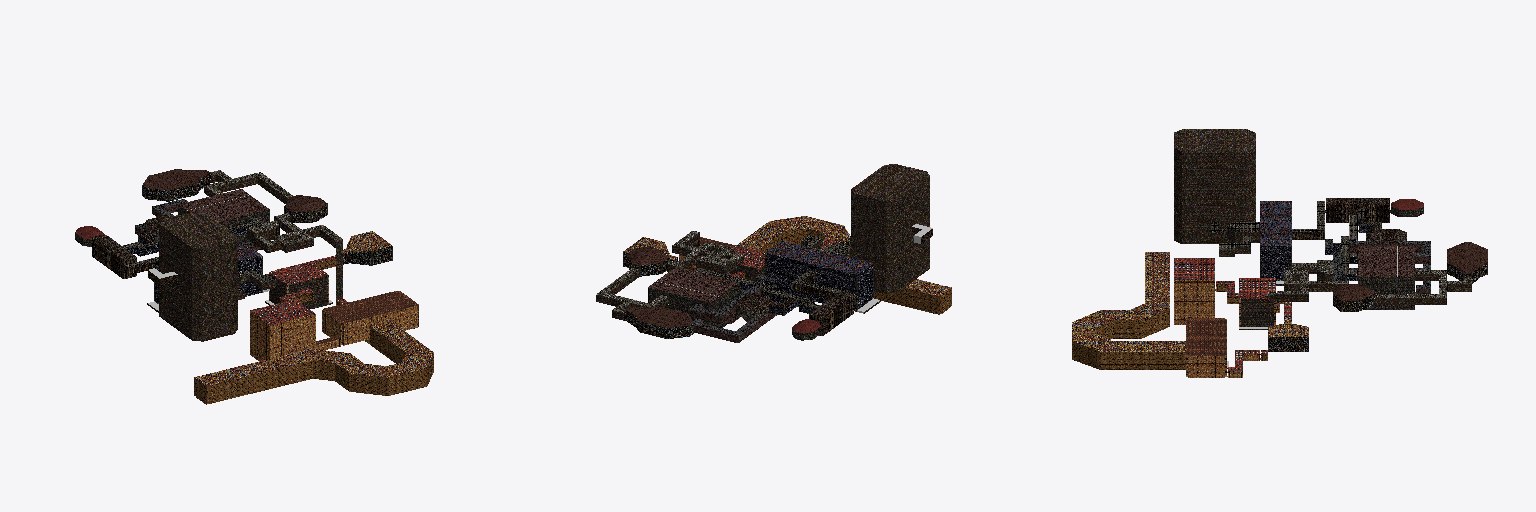
The picture shows the model from 3 angles: view 1: azimuth 30°, elevation 25°; view 2: azimuth 150°, elevation 25°; view 3: azimuth 270°, elevation 25°; orthographic projection.
Visible parts, largest first — view 1: Room5, Room36, Room34, Room37, Room39, Room20, Room16, Room42, Room9, Room3, Room23, Room18 (+1 smaller); view 2: Room5, Room3, Room36, Room20, Room16, Room17, Room9, Room23, Room14, Room39, Room15, Room18; view 3: Room5, Room36, Room37, Room34, Room3, Room16, Room39, Room9, Room20, Room42, Room17, Room23 (+4 smaller).
Part boxes in pixels (x1,y1,x2,y2): Room5: (159, 212, 237, 341); Room36: (194, 321, 433, 404); Room34: (322, 291, 418, 345); Room37: (250, 299, 315, 360); Room39: (265, 262, 332, 308); Room20: (142, 169, 209, 201); Room16: (186, 195, 269, 243); Room42: (343, 231, 392, 265); Room9: (92, 234, 136, 278); Room3: (147, 244, 269, 312); Room23: (284, 195, 327, 222); Room18: (204, 172, 263, 196); Room5: (851, 164, 929, 293); Room3: (765, 241, 880, 313); Room36: (736, 216, 951, 314); Room20: (626, 306, 693, 338); Room16: (656, 267, 739, 327); Room17: (648, 282, 719, 326); Room9: (809, 291, 853, 335); Room23: (627, 246, 669, 276); Room14: (734, 293, 773, 319); Room39: (730, 245, 764, 281); Room15: (695, 268, 776, 290); Room18: (596, 292, 664, 307); Room5: (1174, 129, 1255, 243); Room36: (1072, 252, 1185, 369); Room37: (1174, 258, 1214, 324); Room34: (1186, 318, 1228, 377); Room3: (1260, 201, 1291, 285); Room16: (1349, 246, 1397, 309); Room39: (1235, 278, 1279, 329); Room9: (1325, 198, 1390, 222); Room20: (1447, 242, 1487, 283); Room42: (1268, 320, 1308, 351); Room17: (1398, 246, 1422, 309); Room23: (1333, 284, 1374, 311).
Bounding box in the file's own units: 9472 × 4948 × 13056.
88 materials, 83 textured.